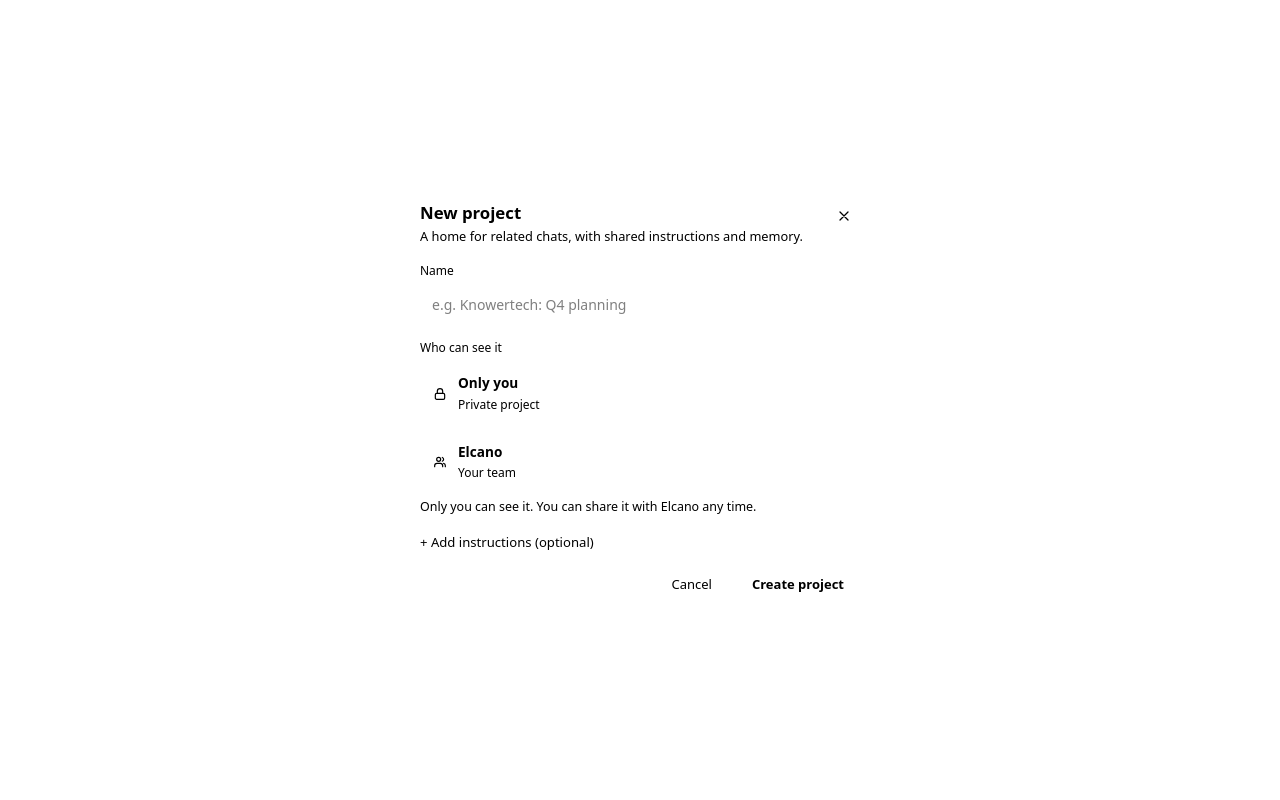
Scenario: NewProjectDialog › keeps the dialog open and shows why when create fails
Type "Q4" into the field labelled "Name" at (640, 305), box [420,286,860,323]
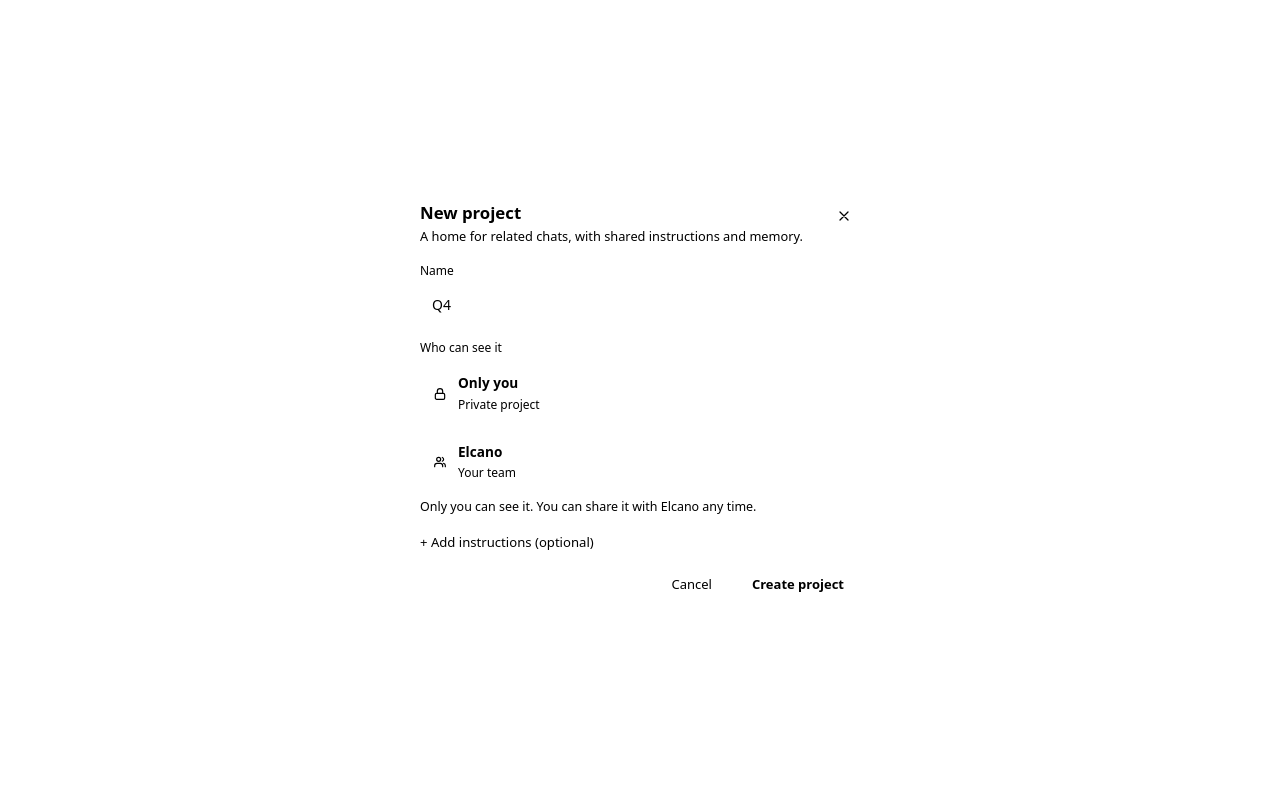
Click the button "Create project" at (798, 584), box [736,568,860,600]
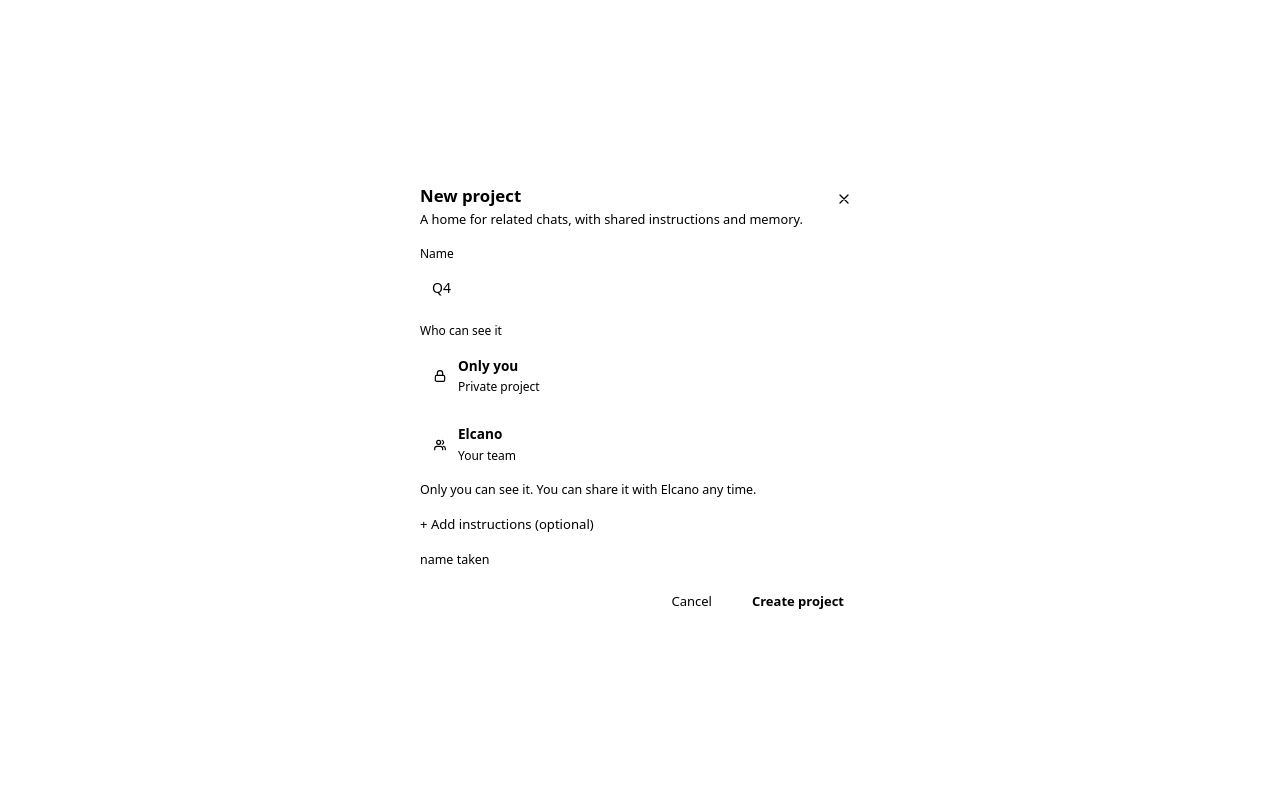
Now the message reads "name taken", box [420,551,490,568]
